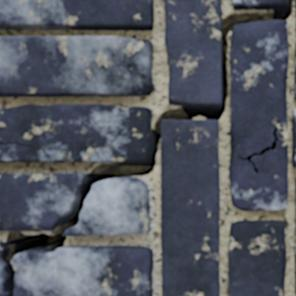brick: (230, 21, 287, 210), (161, 120, 218, 295), (0, 36, 152, 95), (0, 105, 151, 161), (165, 0, 220, 105), (0, 0, 153, 29), (229, 221, 285, 295), (234, 0, 287, 9), (293, 110, 295, 166), (294, 70, 295, 98)
broken_brick: (13, 245, 153, 295), (0, 172, 88, 231), (65, 177, 151, 236), (0, 260, 4, 295), (0, 241, 7, 252)
crack: (0, 0, 293, 295)
